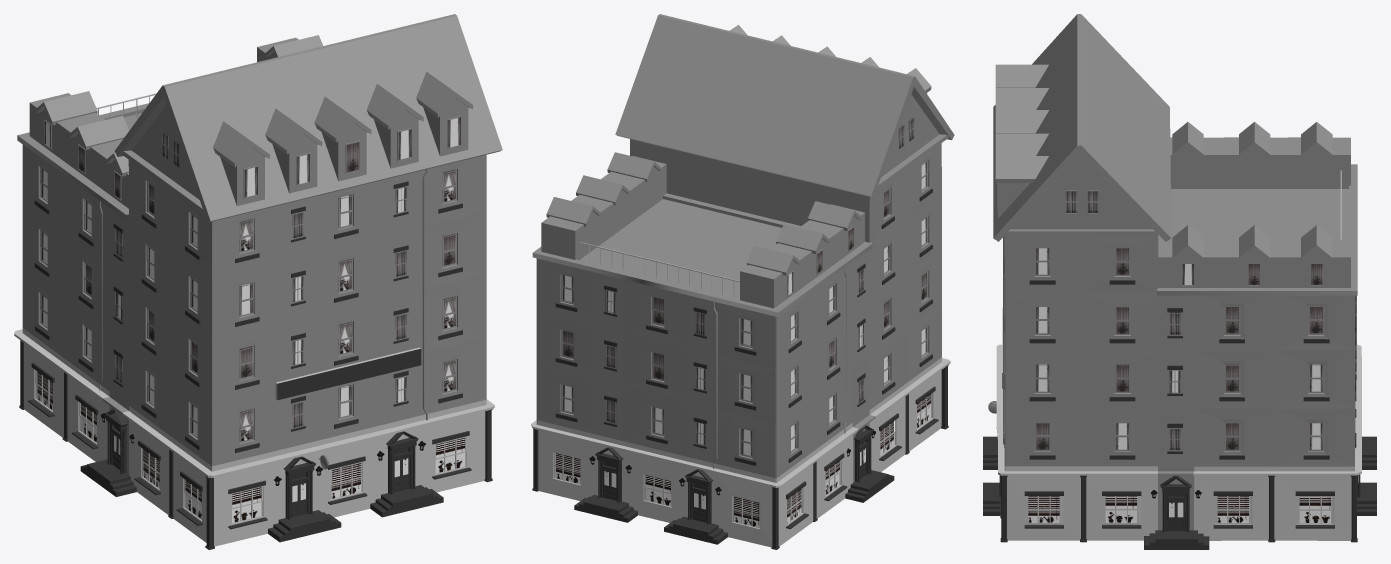
File: Building_11.FBX
The picture shows the model from 3 angles, left to right: view 1: azimuth 30°, elevation 25°; view 2: azimuth 150°, elevation 25°; view 3: azimuth 270°, elevation 25°; orthographic projection. The views are drawn at different scales.
Visible parts, largest first — view 1: building11, window1 (×2), window2, window3; view 2: building11, window1 (×2), window2, window3, iron; view 3: building11, window1 (×2), window2, window3.
Boxes of the visible parts, x1,y1,x2,y2 form: building11: [14, 14, 502, 549]; window1 (×2): [36, 117, 464, 522]; window2: [80, 131, 455, 502]; window3: [41, 169, 455, 341]; building11: [531, 14, 954, 549]; window1 (×2): [554, 162, 930, 522]; window2: [606, 117, 914, 527]; window3: [563, 269, 888, 455]; iron: [579, 242, 875, 495]; building11: [983, 14, 1376, 549]; window1 (×2): [1036, 191, 1322, 522]; window2: [1028, 191, 1322, 522]; window3: [1036, 248, 1330, 522].
Bounding box in the file's own units: 1742 × 2287 × 2043.
